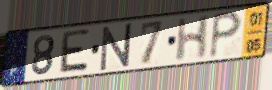7: (139, 19, 164, 68)
8: (31, 34, 57, 78)
E: (56, 27, 91, 75)
H: (174, 13, 213, 64)
N: (99, 21, 133, 73)
P: (207, 10, 244, 61)
